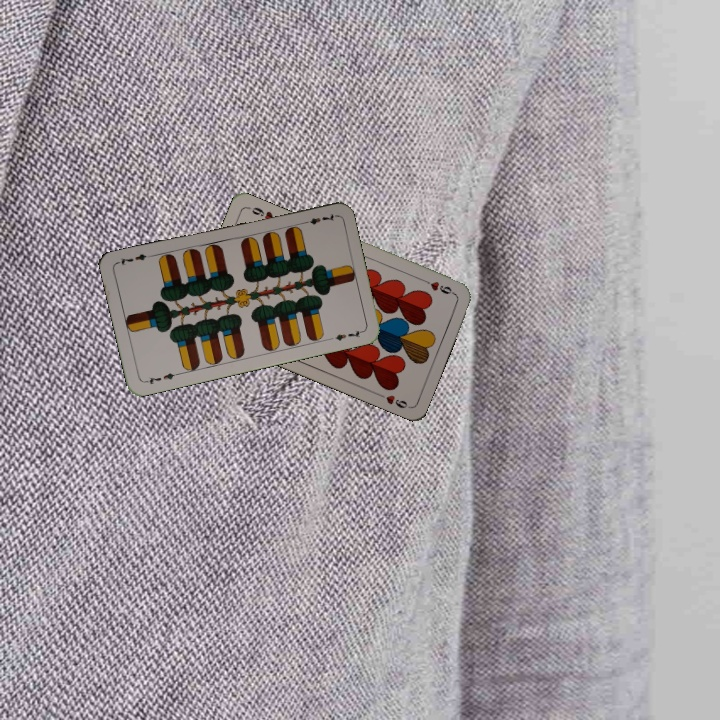E7: (141, 368, 181, 387), (298, 210, 338, 227)
H9: (419, 275, 457, 298)
